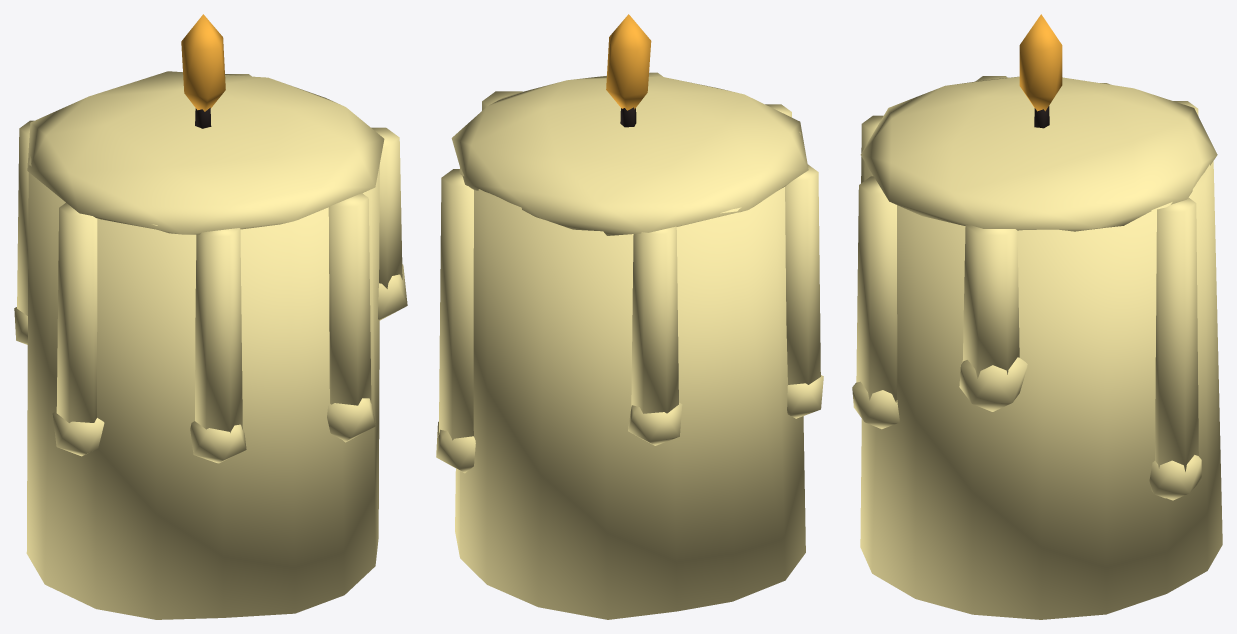
The model's file is Lake_Candle2.fbx.
The picture shows the model from 3 angles, left to right: view 1: azimuth 30°, elevation 25°; view 2: azimuth 150°, elevation 25°; view 3: azimuth 270°, elevation 25°; orthographic projection.
Visible parts, largest first — view 1: Lake_Candle2; view 2: Lake_Candle2; view 3: Lake_Candle2.
Boxes of the visible parts, x1,y1,x2,y2 form: Lake_Candle2: [14, 14, 407, 619]; Lake_Candle2: [436, 14, 823, 619]; Lake_Candle2: [852, 14, 1222, 619].
Bounding box in the file's own units: 2.23 × 3.28 × 2.07.
